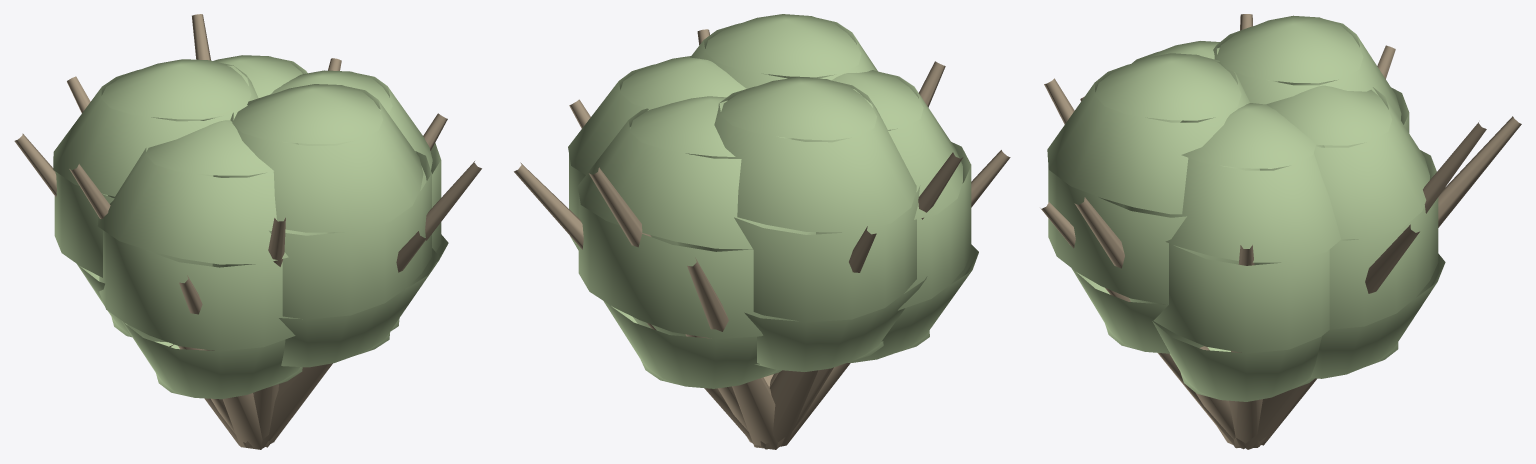
File: salvia-fruticosa.glb
3 views of the same model, side by side, from view 1: azimuth 30°, elevation 25°; view 2: azimuth 150°, elevation 25°; view 3: azimuth 270°, elevation 25° (orthographic). The views are drawn at different scales.
Parts seen in each view (by area): view 1: salvia-fruticosa; view 2: salvia-fruticosa; view 3: salvia-fruticosa.
Part boxes in pixels (<box>): salvia-fruticosa: <box>14,14,481,449</box>; salvia-fruticosa: <box>514,14,1010,449</box>; salvia-fruticosa: <box>1040,14,1521,449</box>.
Size of the model in its own units: 0.897 by 0.8533 by 0.9547.
